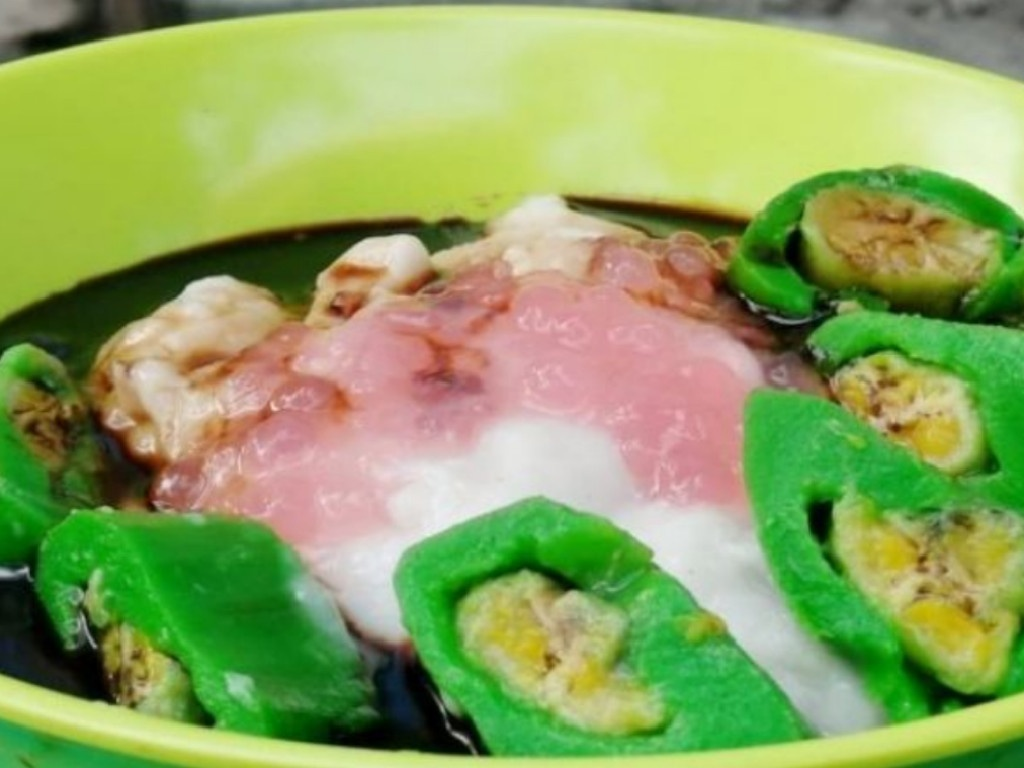pisang_ijo: (379, 490, 777, 746)
